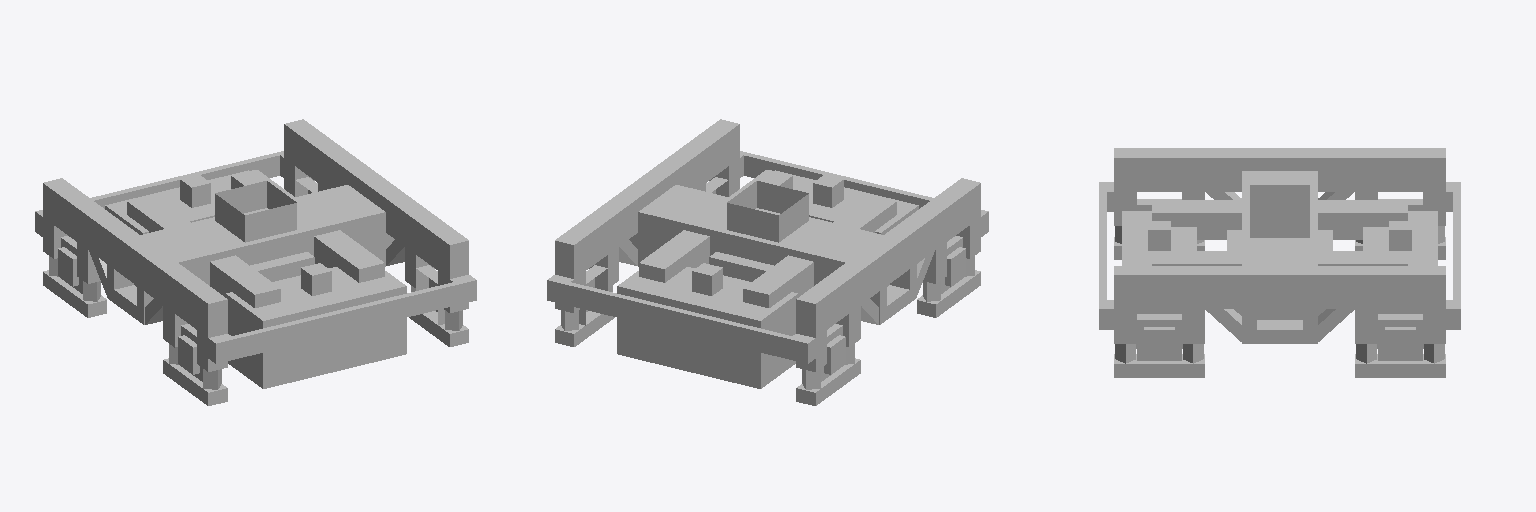
The model's file is frame.obj.
The picture shows the model from 3 angles: view 1: azimuth 30°, elevation 25°; view 2: azimuth 150°, elevation 25°; view 3: azimuth 270°, elevation 25°; orthographic projection.
Parts seen in each view (by area): view 1: cube_57, cube_13, cube_52, cube_36, cube_25, cube_0, cube_60, cube_58, cube_10, cube_55, cube_56, cube_22 (+16 smaller); view 2: cube_55, cube_13, cube_52, cube_36, cube_10, cube_0, cube_56, cube_54, cube_25, cube_57, cube_60, cube_5 (+16 smaller); view 3: cube_36, cube_13, cube_52, cube_0, cube_56, cube_60, cube_55, cube_57, cube_29, cube_45, cube_27, cube_54 (+18 smaller).
Boxes of the visible parts, x1,y1,x2,y2 form: cube_57: [226, 267, 406, 388]; cube_13: [43, 178, 227, 337]; cube_52: [134, 185, 385, 286]; cube_36: [284, 119, 468, 278]; cube_25: [232, 282, 456, 358]; cube_0: [215, 181, 296, 242]; cube_60: [210, 255, 280, 307]; cube_58: [314, 230, 384, 282]; cube_10: [90, 153, 279, 208]; cube_55: [105, 170, 248, 234]; cube_56: [127, 195, 190, 232]; cube_22: [163, 358, 227, 405]; cube_55: [617, 267, 797, 388]; cube_13: [796, 178, 980, 337]; cube_52: [638, 185, 889, 286]; cube_36: [555, 119, 739, 278]; cube_10: [567, 282, 791, 358]; cube_0: [727, 181, 808, 242]; cube_56: [743, 255, 813, 307]; cube_54: [639, 230, 709, 282]; cube_25: [744, 153, 933, 208]; cube_57: [775, 170, 918, 234]; cube_60: [833, 195, 896, 232]; cube_5: [796, 358, 860, 405]; cube_36: [1114, 266, 1445, 308]; cube_13: [1114, 148, 1445, 191]; cube_52: [1242, 171, 1317, 319]; cube_0: [1250, 185, 1309, 237]; cube_56: [1318, 200, 1407, 239]; cube_60: [1152, 200, 1241, 239]; cube_55: [1363, 211, 1437, 348]; cube_57: [1122, 211, 1196, 348]; cube_29: [1355, 354, 1445, 377]; cube_45: [1114, 354, 1204, 377]; cube_27: [1242, 320, 1317, 343]; cube_54: [1318, 251, 1407, 265].
Size of the model in its own units: 2.5 by 1.06 by 3.